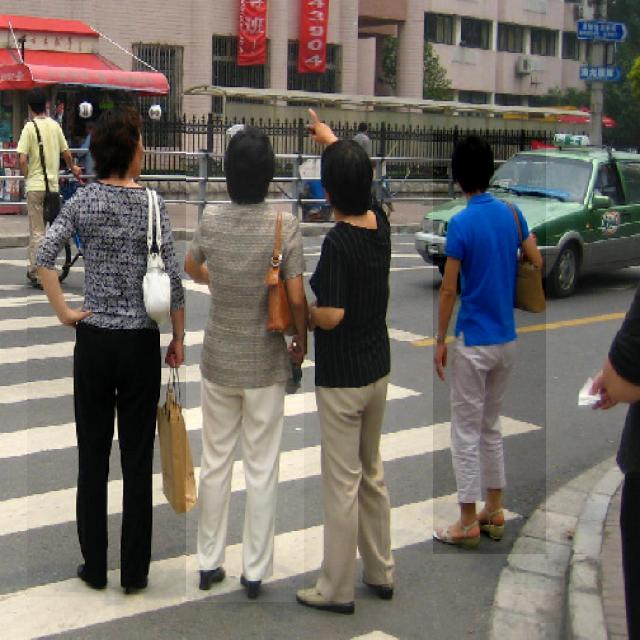with scooter: (27, 103, 186, 598), (182, 124, 304, 602), (433, 130, 546, 554), (304, 131, 396, 612)
